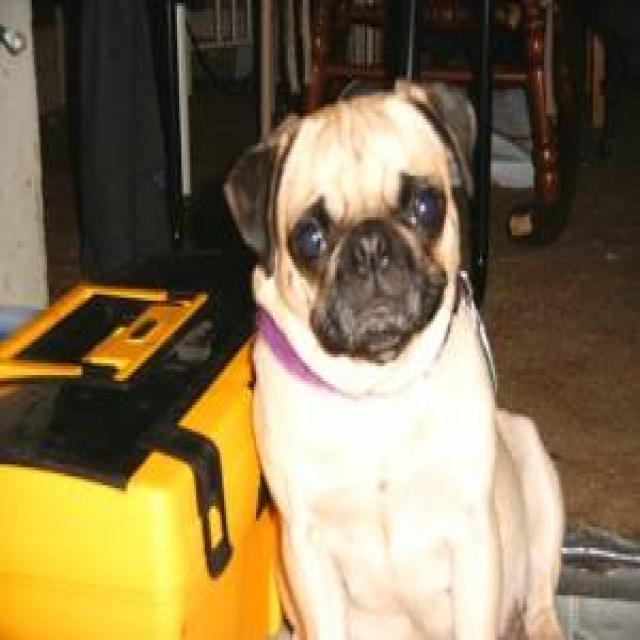dog-pug: (215, 71, 574, 634)
